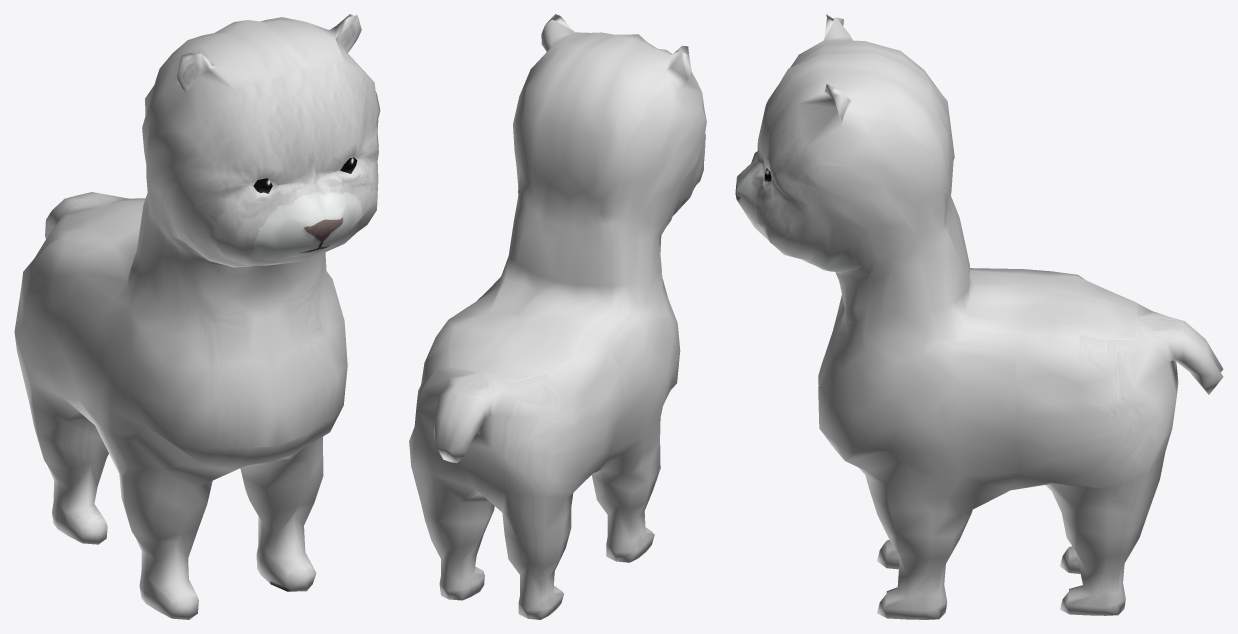
The model's file is alpaka15.fbx.
The picture shows the model from 3 angles, left to right: view 1: azimuth 30°, elevation 25°; view 2: azimuth 150°, elevation 25°; view 3: azimuth 270°, elevation 25°; orthographic projection. The views are drawn at different scales.
Parts seen in each view (by area): view 1: polySurface5; view 2: polySurface5; view 3: polySurface5.
Part boxes in pixels (x1=…): polySurface5: x1=14, y1=14, x2=380, y2=619; polySurface5: x1=409, y1=14, x2=706, y2=619; polySurface5: x1=735, y1=14, x2=1223, y2=619.
Bounding box in the file's own units: 5.75 × 14.63 × 12.
